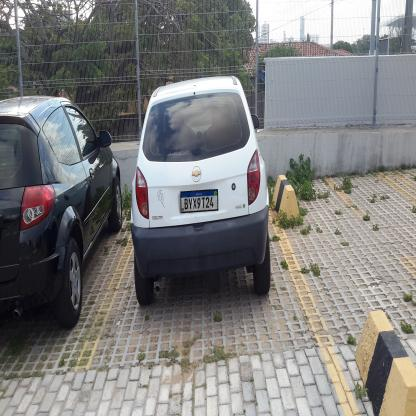PlacaM: (180, 189, 218, 213)
